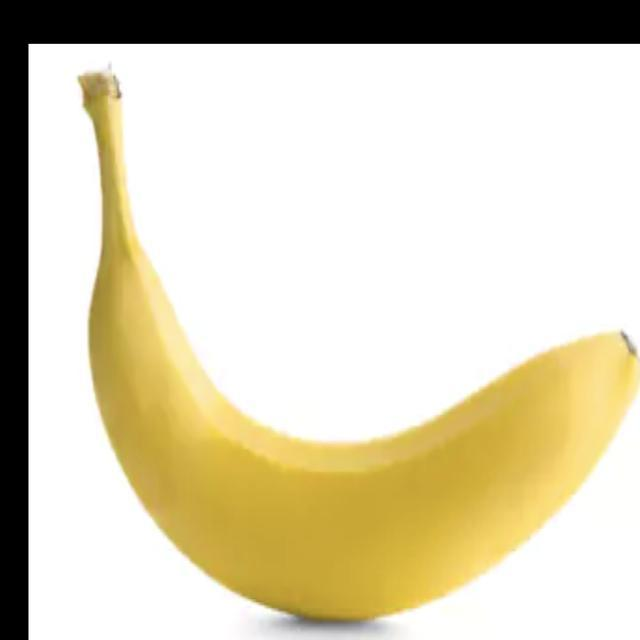Banana: (77, 64, 639, 623)
